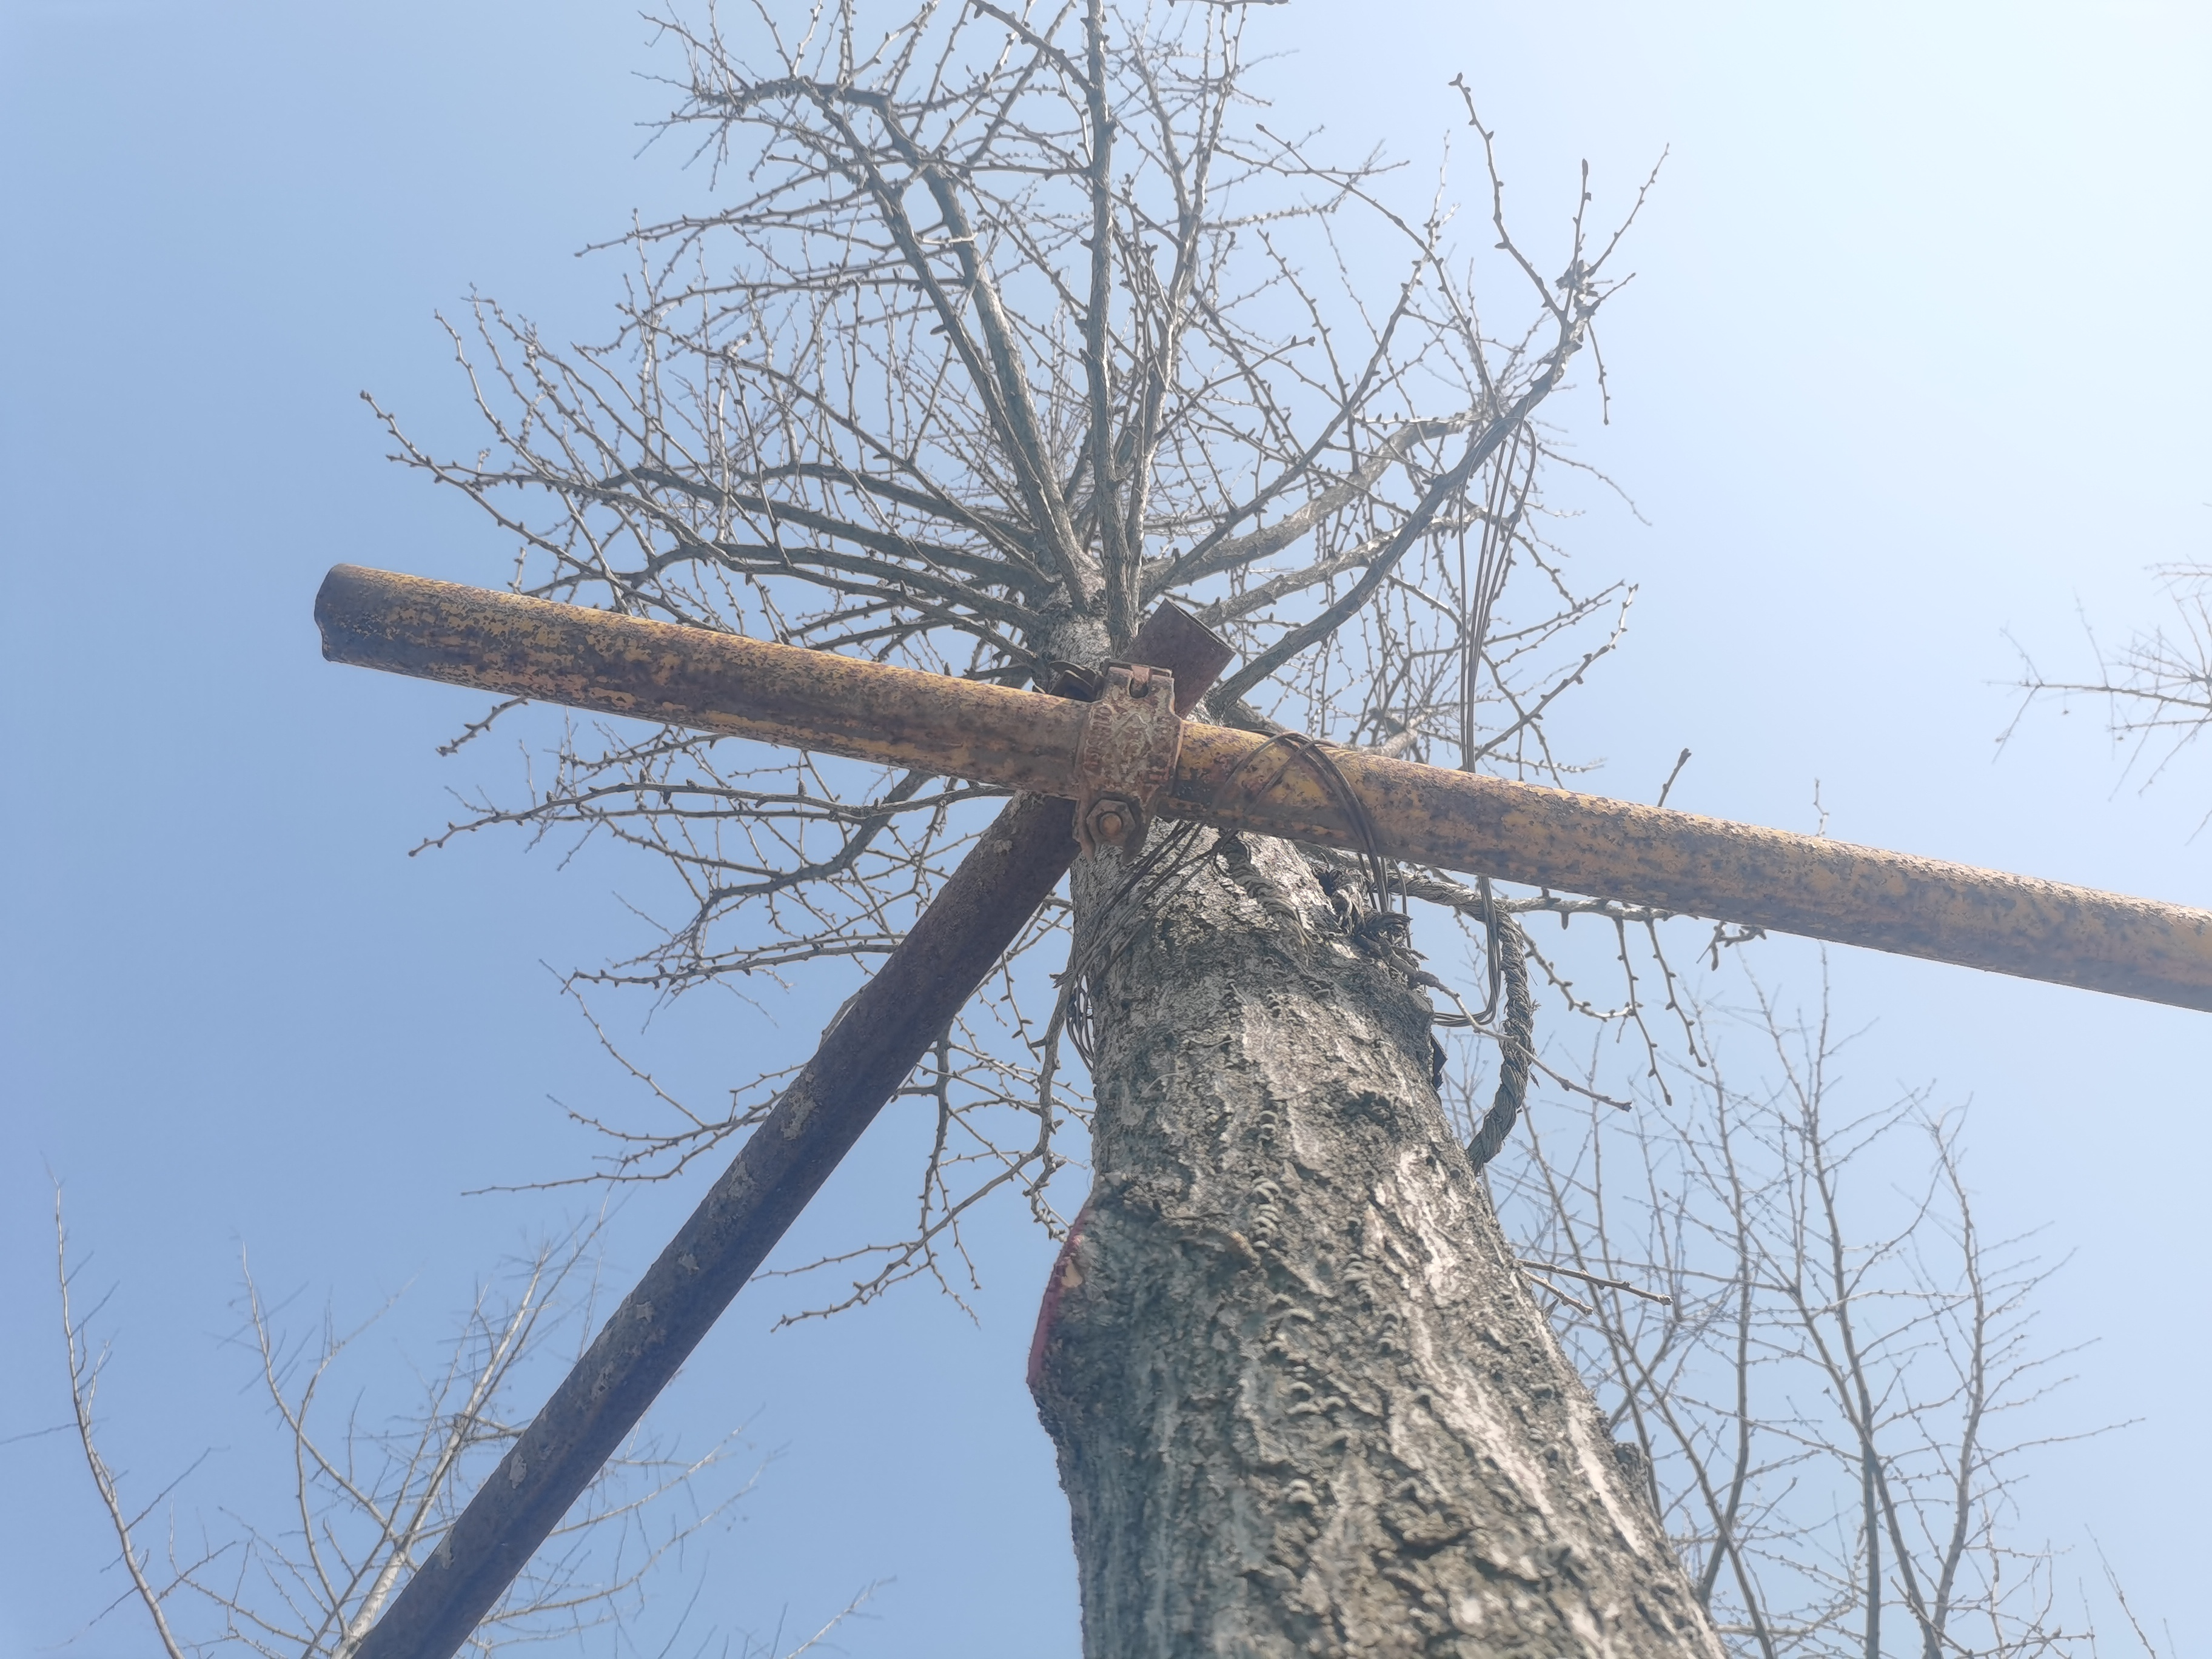bolt_b: (1082, 795, 1139, 852)
